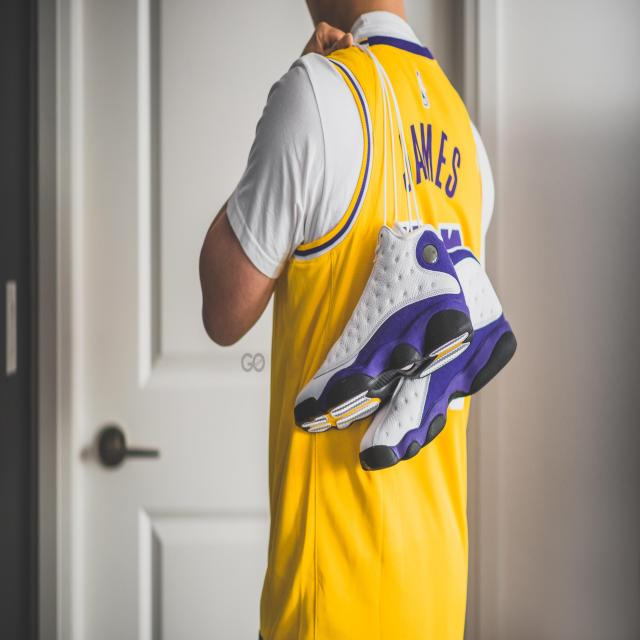shoe: (356, 225, 526, 471), (291, 212, 464, 439)
